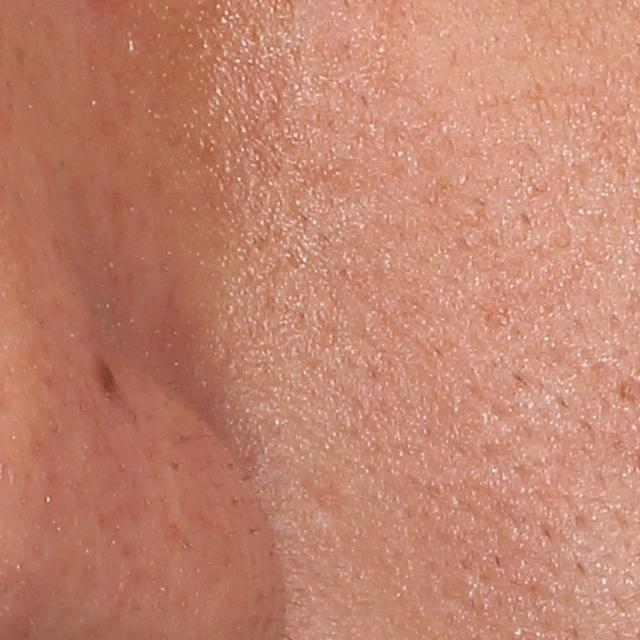nevus: (93, 360, 121, 400)
